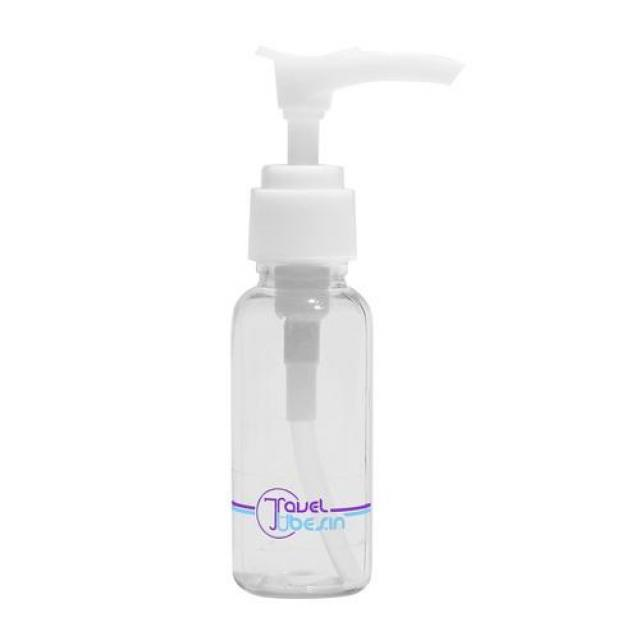plastic_bottle: (230, 44, 408, 627)
